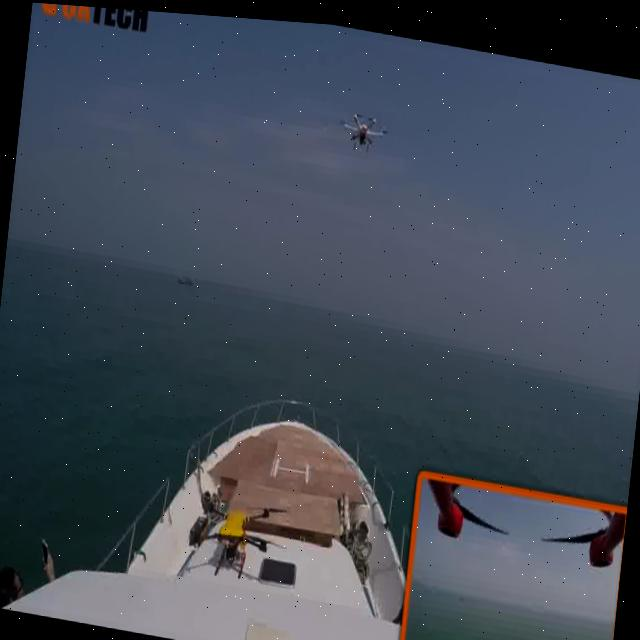drone: (338, 100, 389, 153)
